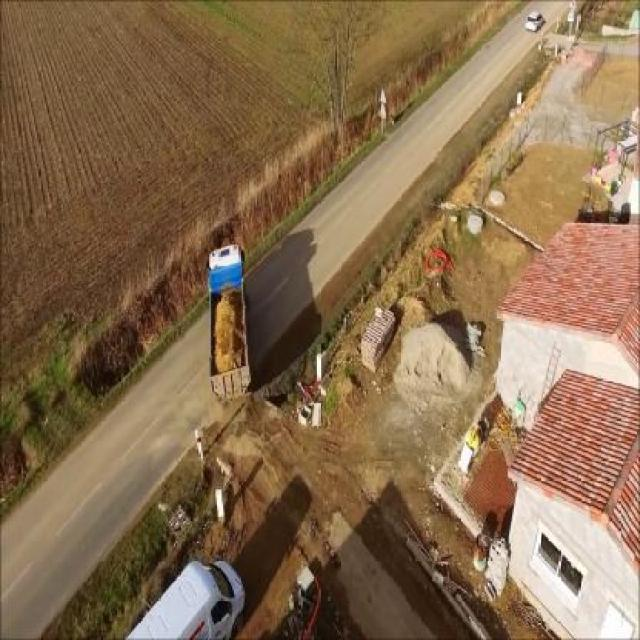dump_truck: (204, 240, 251, 405)
